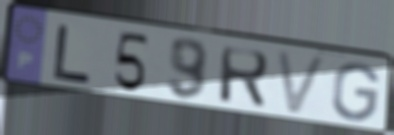5: (112, 29, 151, 93)
9: (166, 35, 208, 103)
G: (330, 60, 382, 124)
L: (52, 22, 95, 85)
R: (216, 44, 271, 111)
V: (273, 48, 331, 118)
